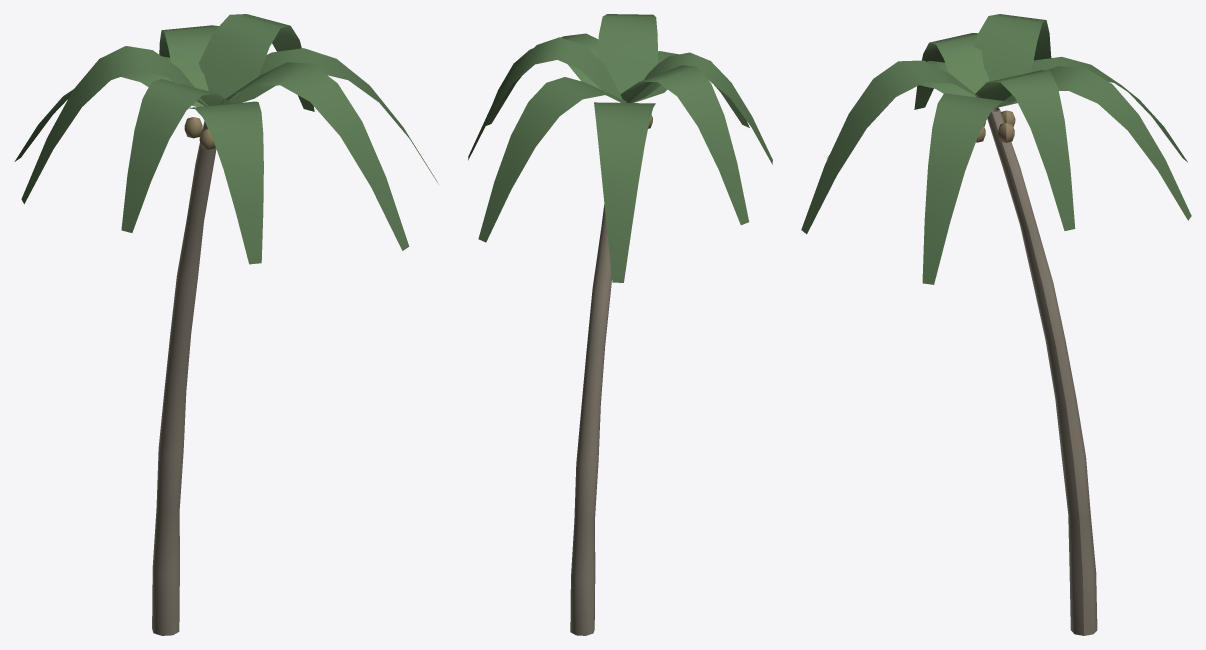
Rendered from cocotier.glb.
3 views of the same model, side by side, from view 1: azimuth 30°, elevation 25°; view 2: azimuth 150°, elevation 25°; view 3: azimuth 270°, elevation 25° (orthographic). The views are drawn at different scales.
Parts seen in each view (by area): view 1: cocotier; view 2: cocotier; view 3: cocotier.
Part boxes in pixels (x1,y1,x2,y2): cocotier: (14,14,438,635); cocotier: (468,14,772,635); cocotier: (801,14,1191,635).
Size of the model in its own units: 6.38 by 10.58 by 6.45.
